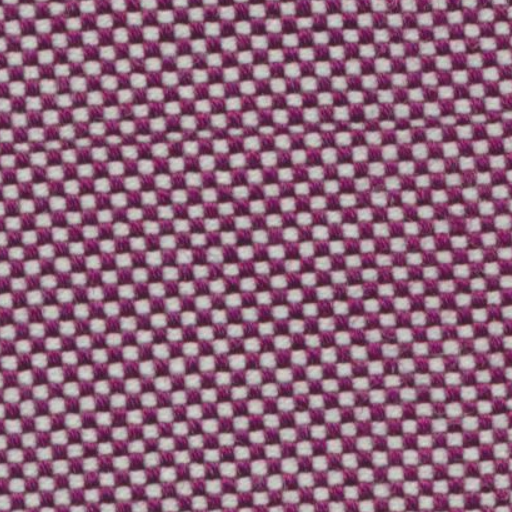TuoSha: (6, 108, 506, 166)
